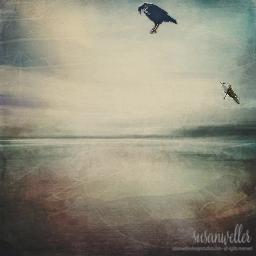Crow: (138, 2, 178, 34)
Cuckoo: (220, 82, 240, 104)
